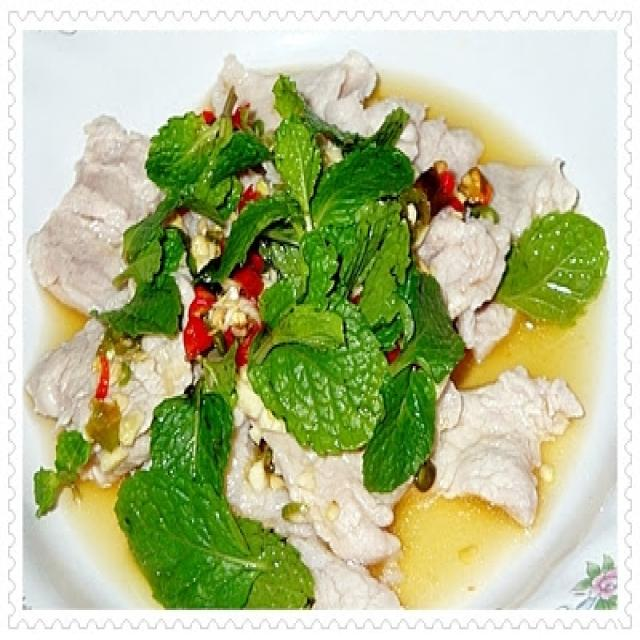猪肉菜式: (29, 51, 613, 604)
